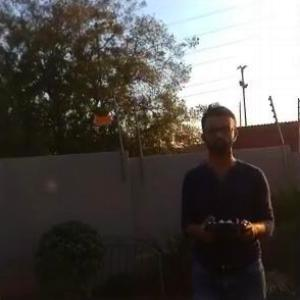follow: (172, 98, 276, 299)
